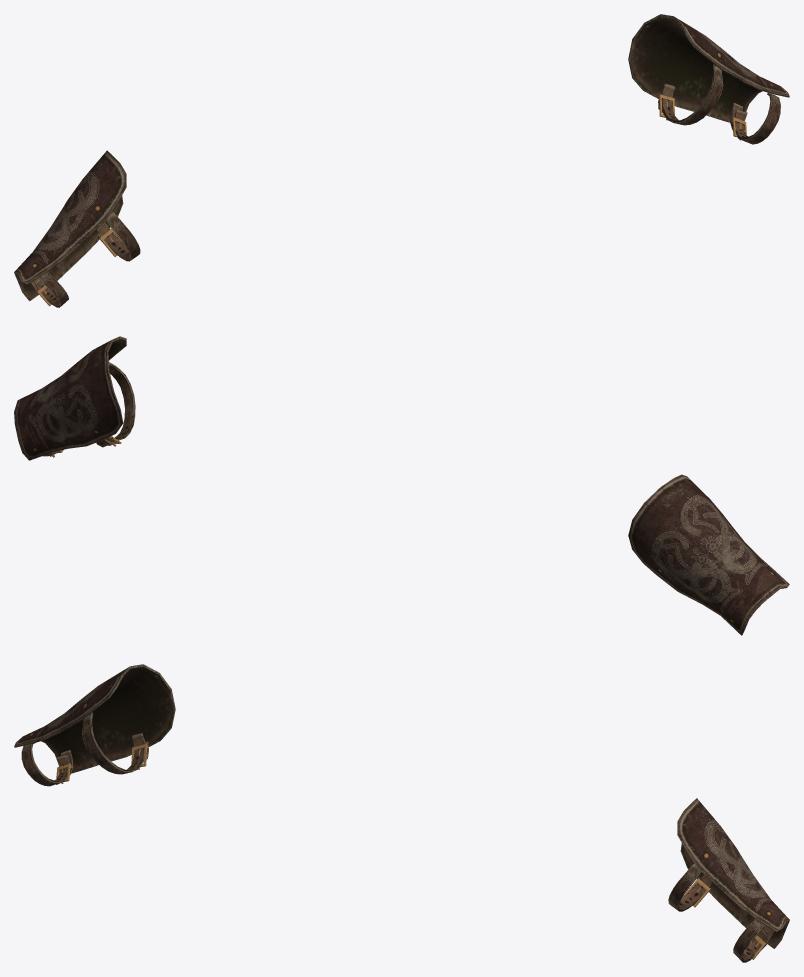
File: cts_rohan_armguard4.fbx
3 renders of one model, top to bottom at view 1: azimuth 30°, elevation 25°; view 2: azimuth 150°, elevation 25°; view 3: azimuth 330°, elevation 25°, orthographic.
Visible parts, largest first — view 1: cts_rohan_armguard4; view 2: cts_rohan_armguard4; view 3: cts_rohan_armguard4.
Part boxes in pixels (bbox=[...]): cts_rohan_armguard4: bbox=[14, 14, 789, 307]; cts_rohan_armguard4: bbox=[14, 336, 789, 635]; cts_rohan_armguard4: bbox=[14, 664, 789, 962].
Bounding box in the file's own units: 1.36 × 0.1491 × 0.233.
